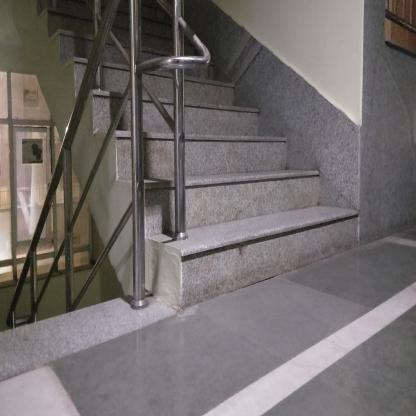stairs: (188, 99, 262, 311)
